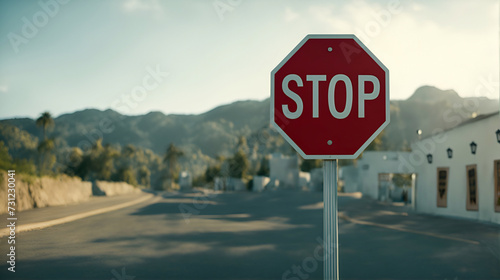StopSign: (270, 34, 390, 159)
